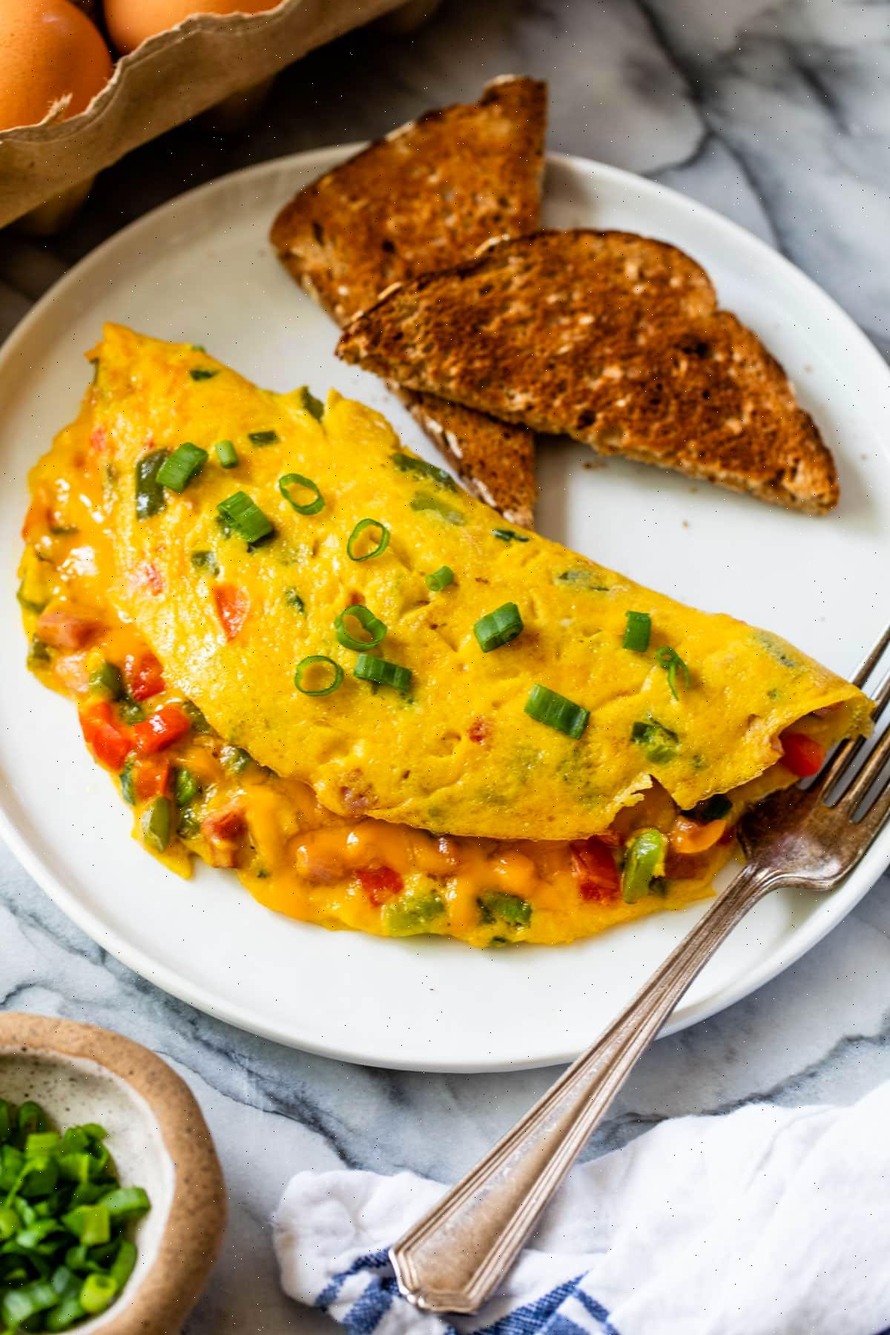omelette: (83, 372, 831, 984)
